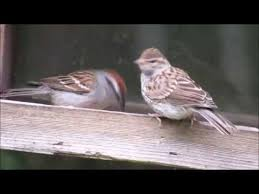hsparrow: (131, 45, 247, 137), (1, 60, 132, 116)
